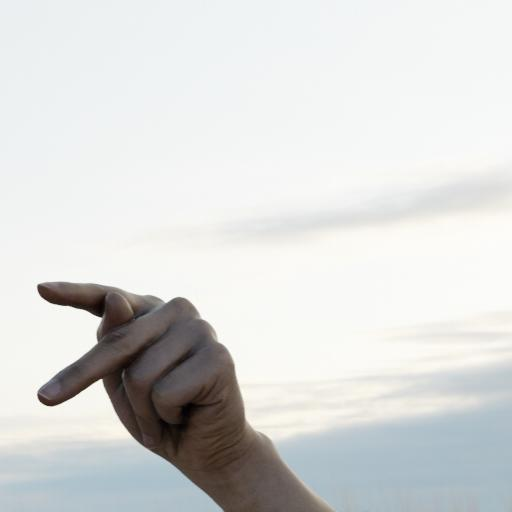P: (28, 272, 286, 512)
